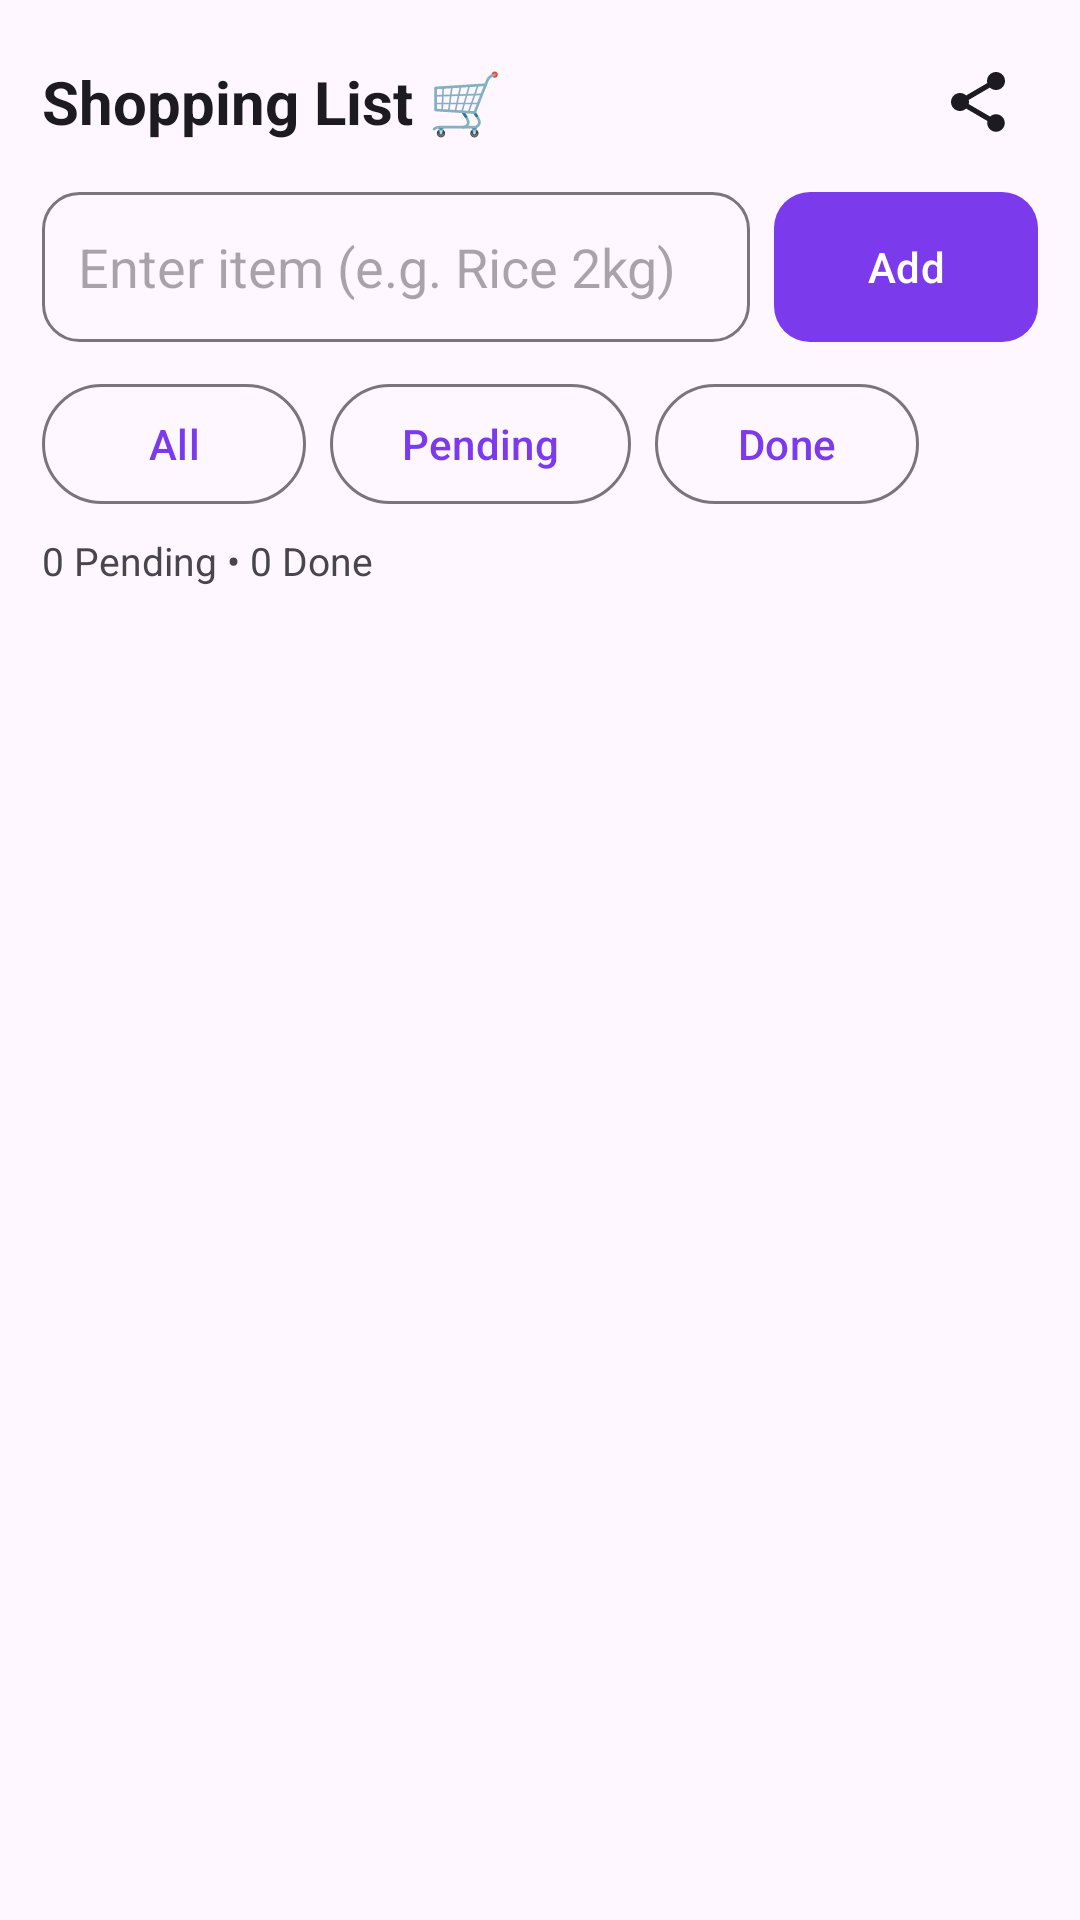

Icons on this 1080*1920 Android screen, each with the point to tap as (x=x, y=y):
Share: (x=978, y=102)
